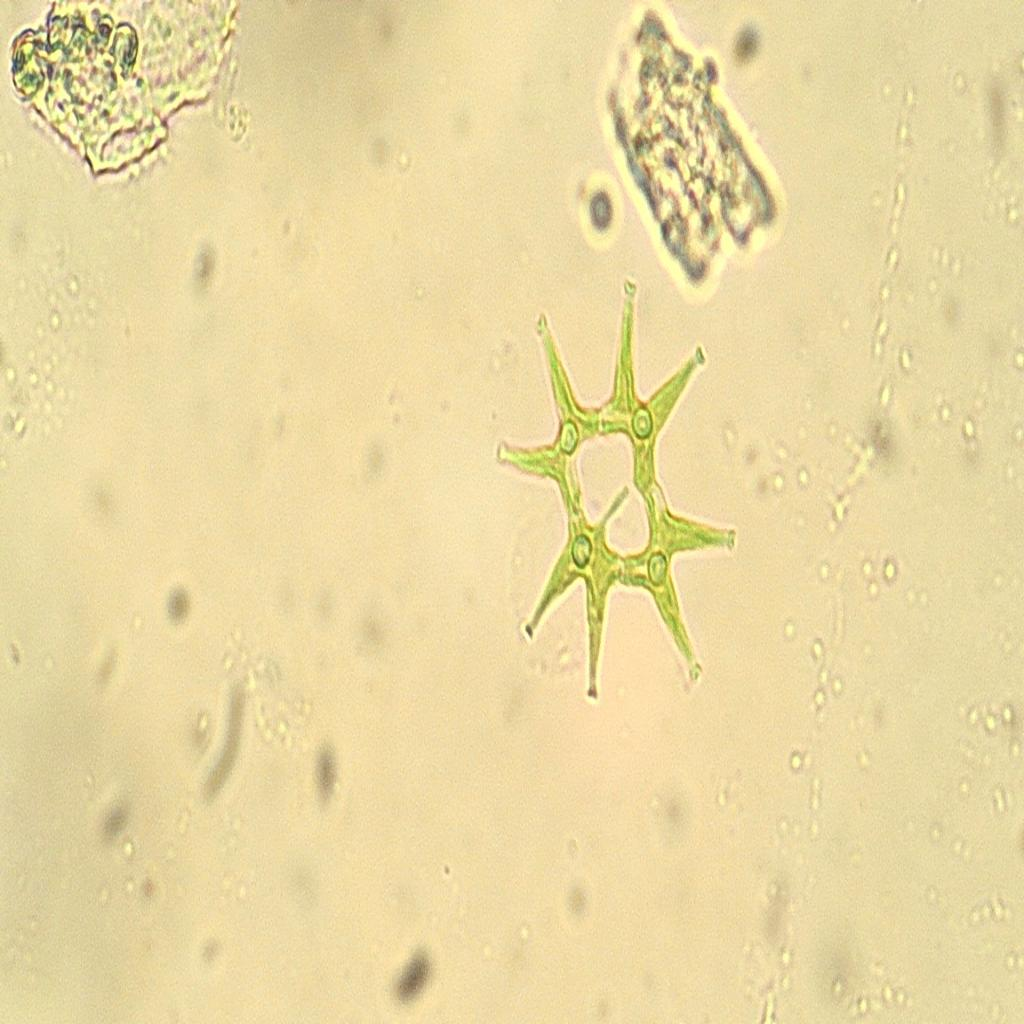Pediastrum_75FO: (480, 257, 752, 739)
